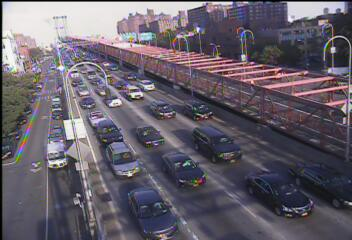neg: (189, 15, 207, 39), (173, 32, 184, 47), (18, 34, 29, 48), (290, 49, 301, 63)
